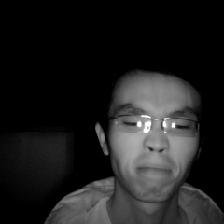sad: (94, 59, 211, 203)
